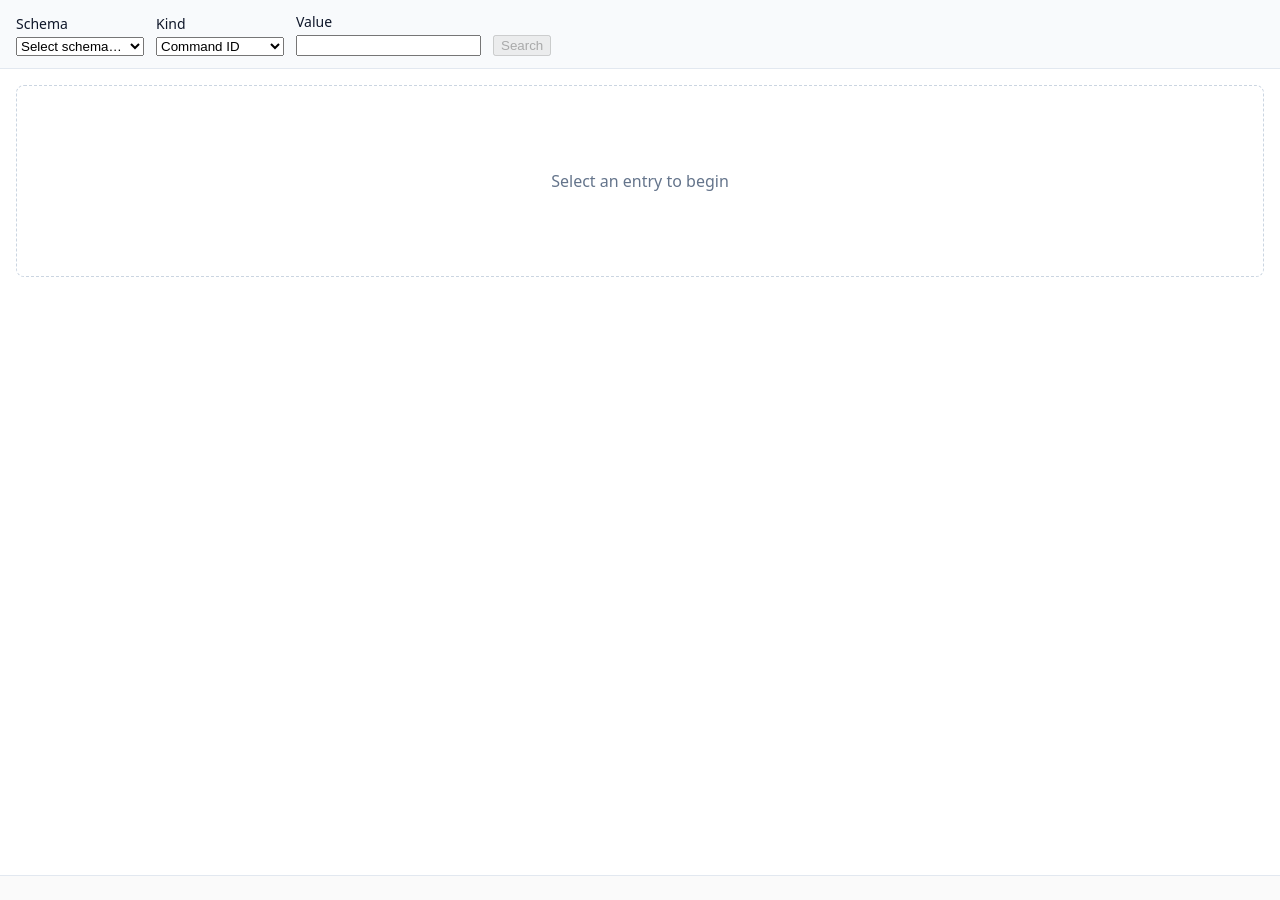
Scenario: App integration › selecting candidate sets canvas seed
This screenshot has width=1280, height=900.
Select "S" in the dropdown with test id "schema-select": coordinates (80, 46) [16, 37, 144, 56]
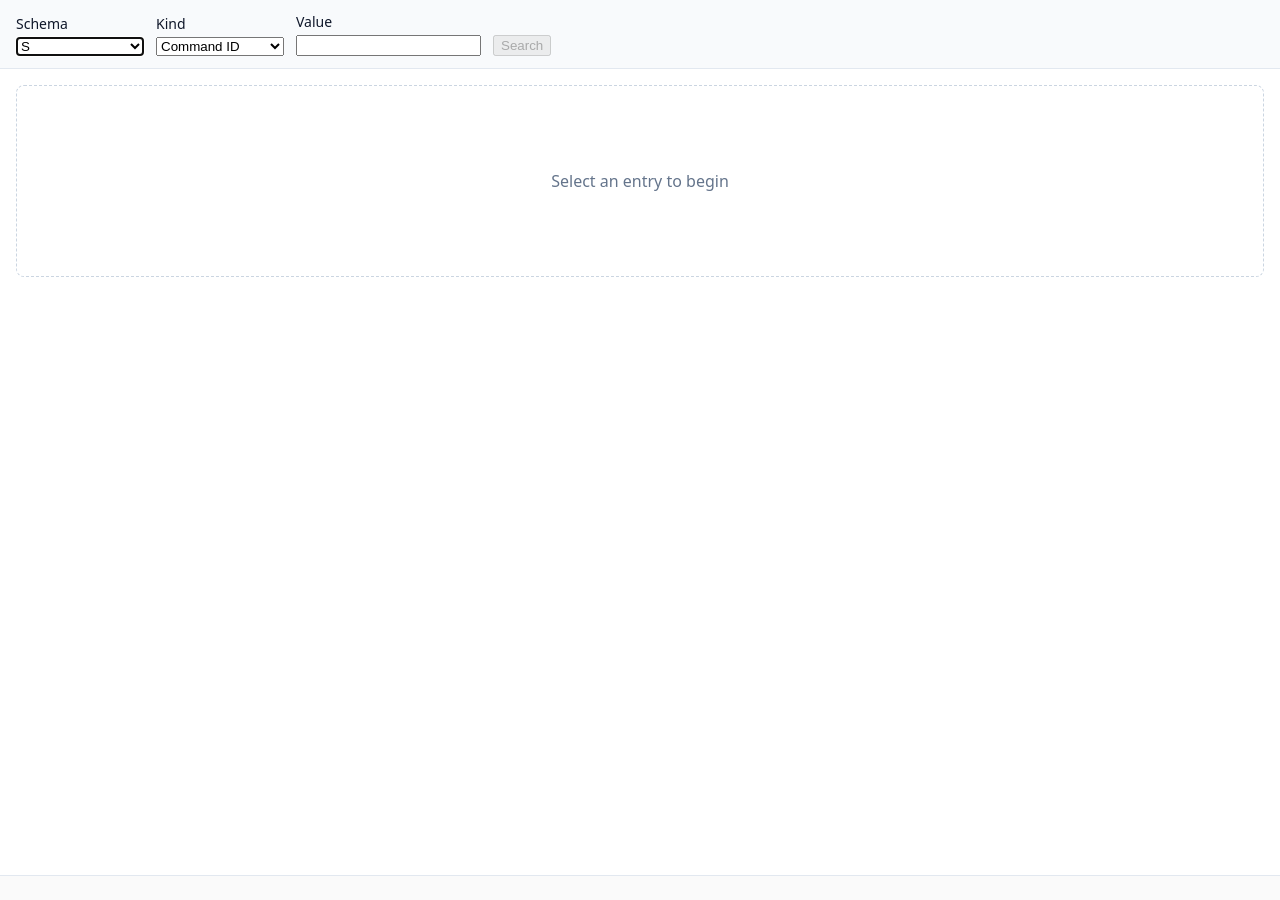
In the field with test id "search-value": coordinates (388, 46) [296, 35, 481, 56], type "F1"
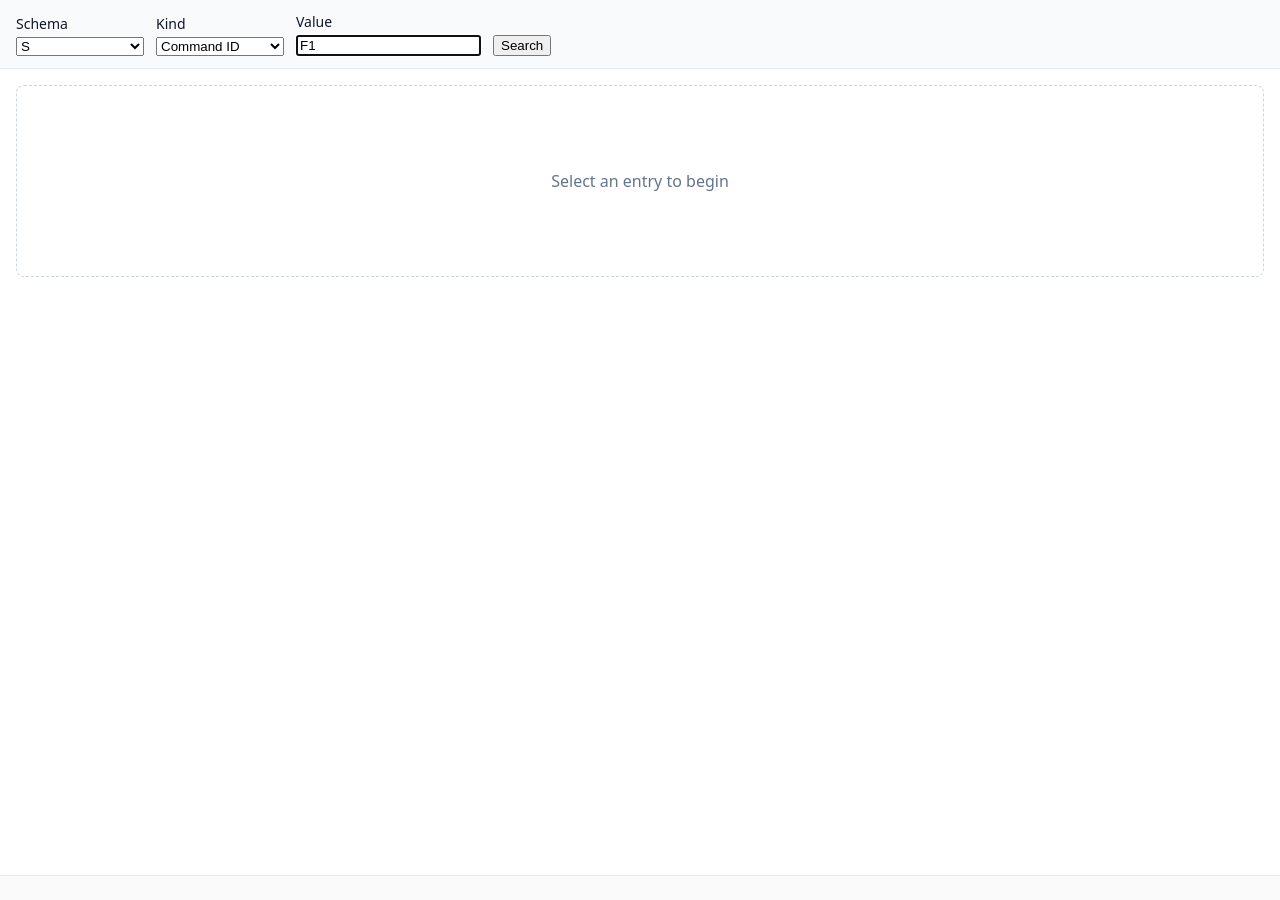
Click the button "Search": coordinates (522, 46) [493, 35, 551, 56]
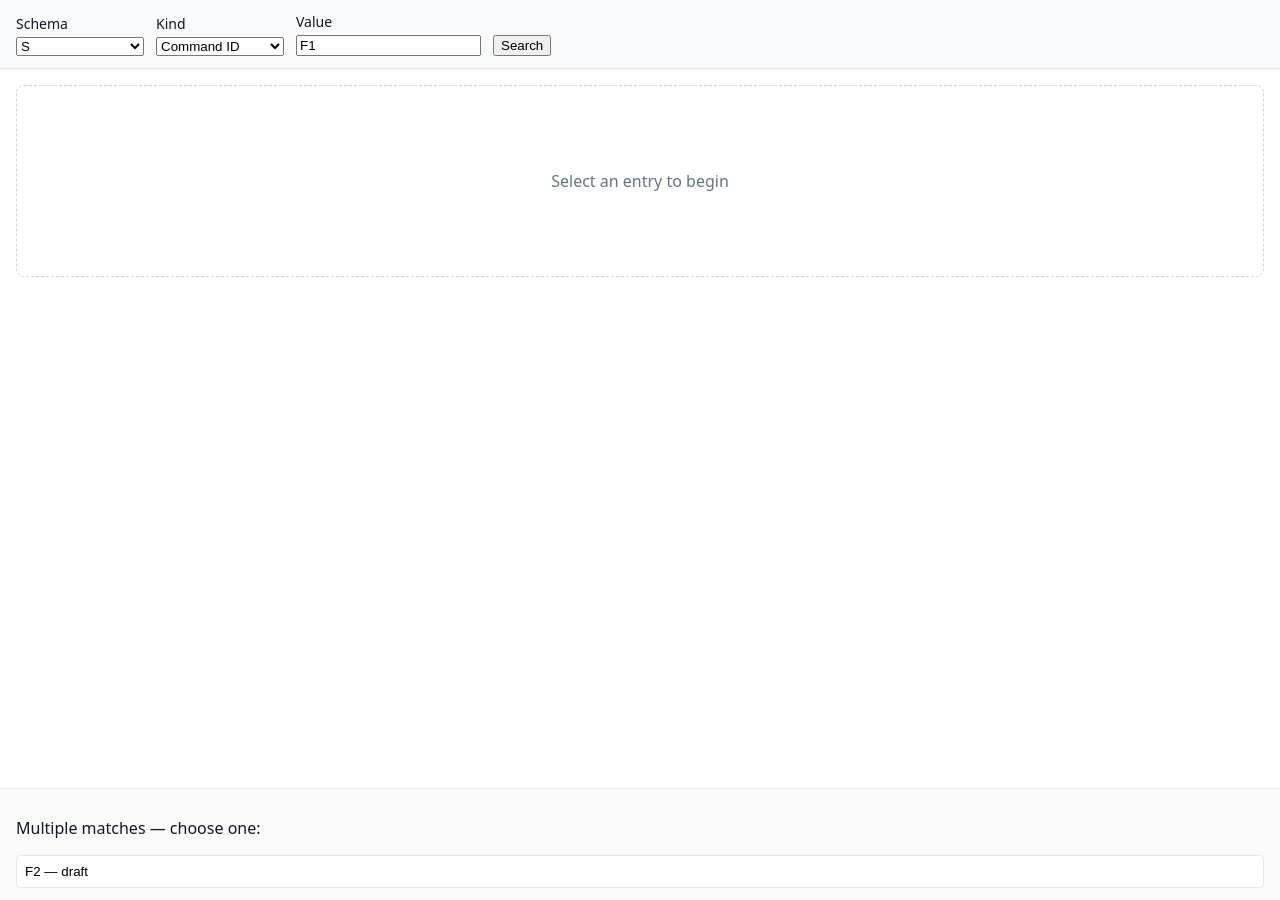
Click the button "F2 — draft": coordinates (33, 872) [16, 855, 1264, 888]
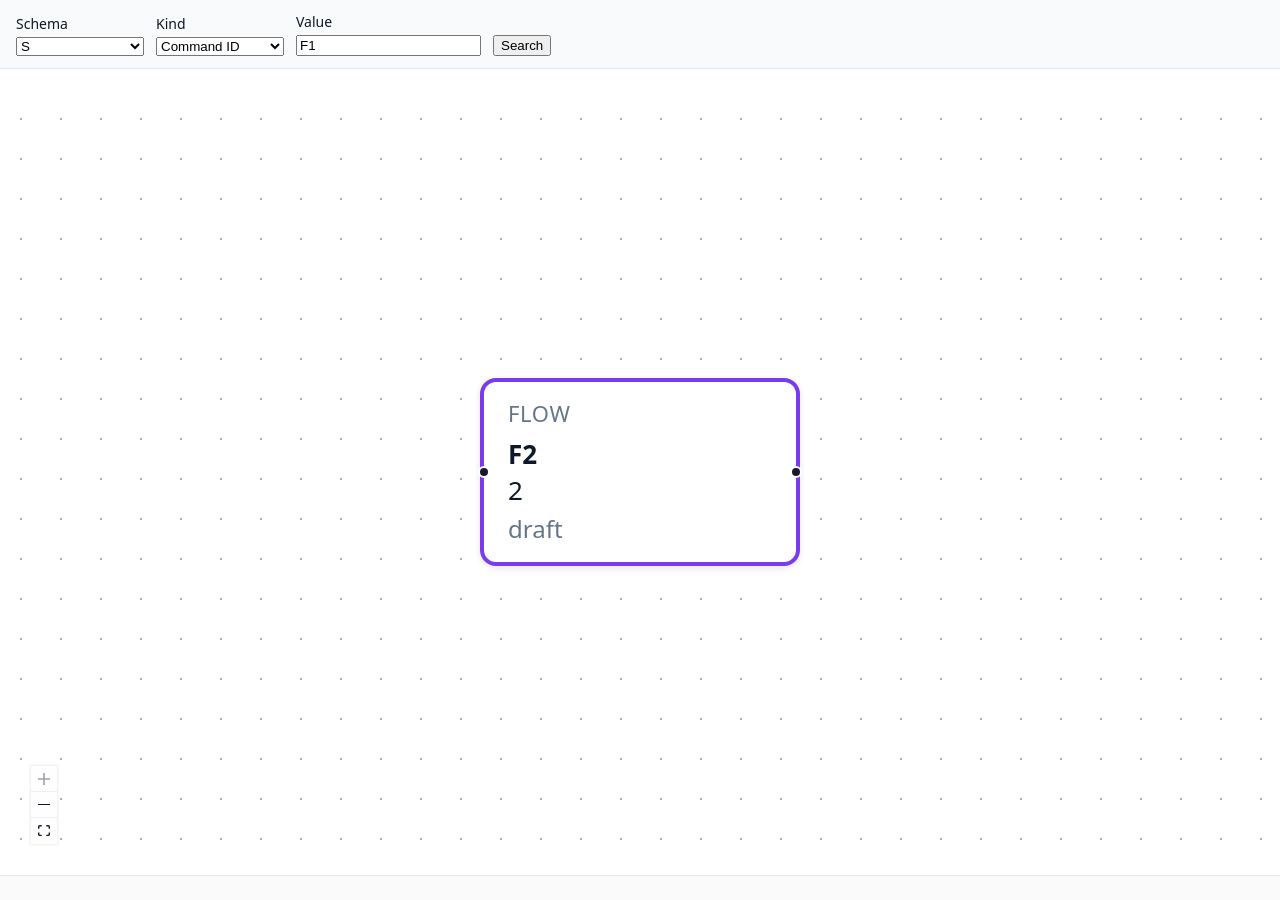
Now the text with test id "seed-id" reads "2", box [508, 472, 523, 508]
